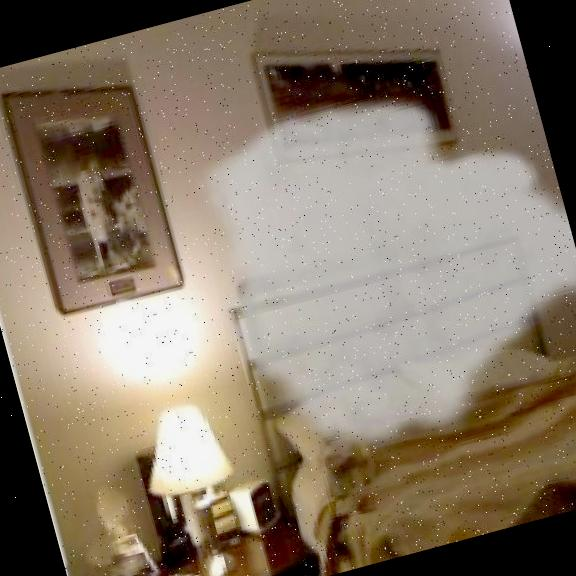smoke: (173, 43, 576, 499)
